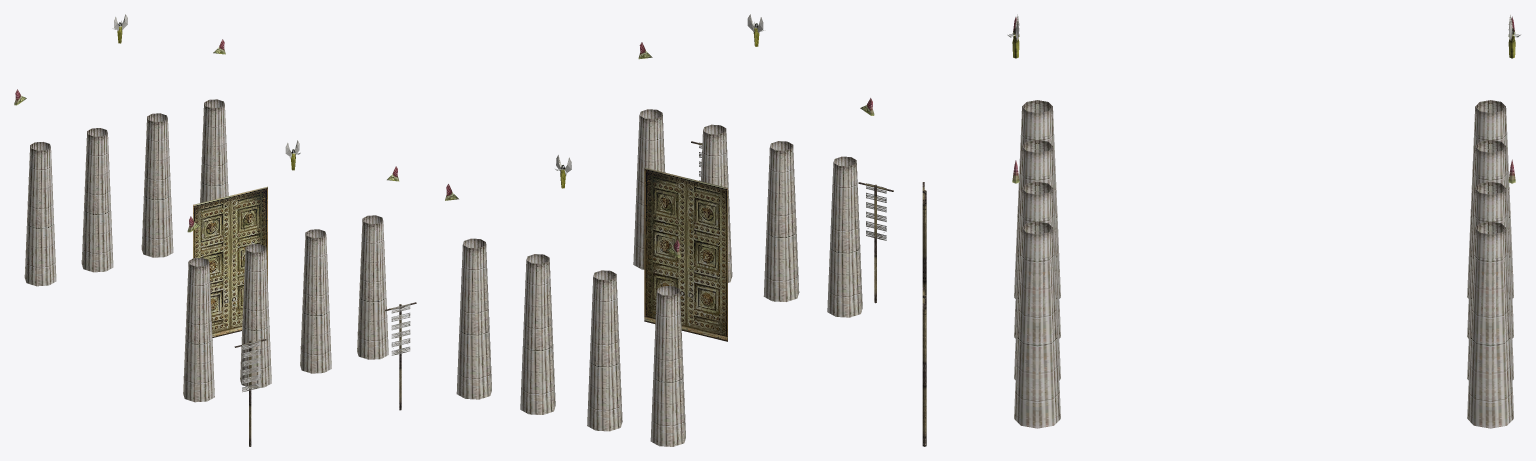
The model's file is hele_temple_b_props.dae.
3 views of the same model, side by side, from view 1: azimuth 30°, elevation 25°; view 2: azimuth 150°, elevation 25°; view 3: azimuth 270°, elevation 25° (orthographic). The views are drawn at different scales.
Parts seen in each view (by area): view 1: props; view 2: props; view 3: props.
Boxes of the visible parts, <box> form: props: <box>14,14,416,446</box>; props: <box>445,14,893,446</box>; props: <box>922,14,1520,446</box>.
Size of the model in its own units: 15.04 by 25.82 by 17.9.
